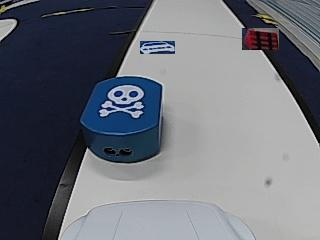danger: (100, 86, 142, 119)
